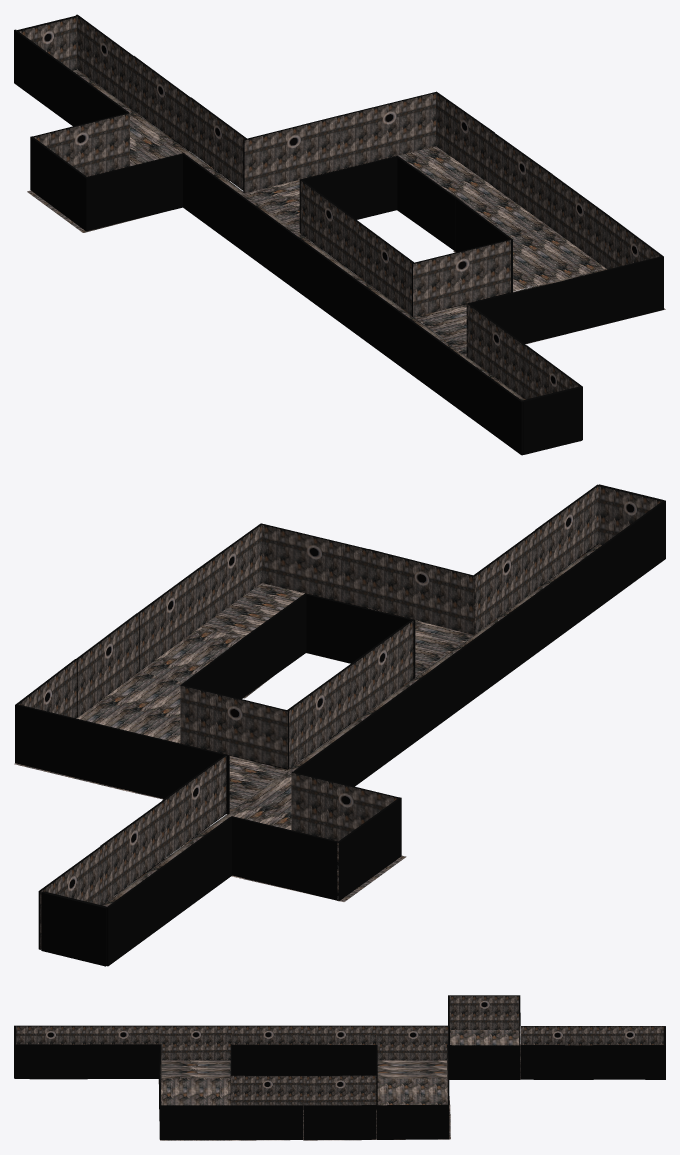
Rendered from shipwreckscene4.fbx.
The picture shows the model from 3 angles, top to bottom: view 1: azimuth 30°, elevation 25°; view 2: azimuth 150°, elevation 25°; view 3: azimuth 270°, elevation 25°; orthographic projection. The views are drawn at different scales.
Visible parts, largest first — view 1: polySurface1022; view 2: polySurface1022; view 3: polySurface1022.
Boxes of the visible parts, bbox=[...] form: polySurface1022: bbox=[14, 14, 665, 455]; polySurface1022: bbox=[14, 484, 665, 966]; polySurface1022: bbox=[14, 995, 665, 1140].
Size of the model in its own units: 147 by 21.12 by 360.
Materials: 7 (7 with a texture image).
